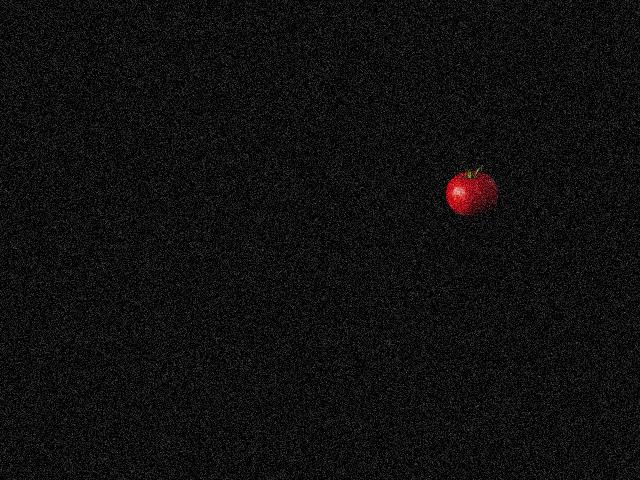tomato: (446, 171, 498, 215)
